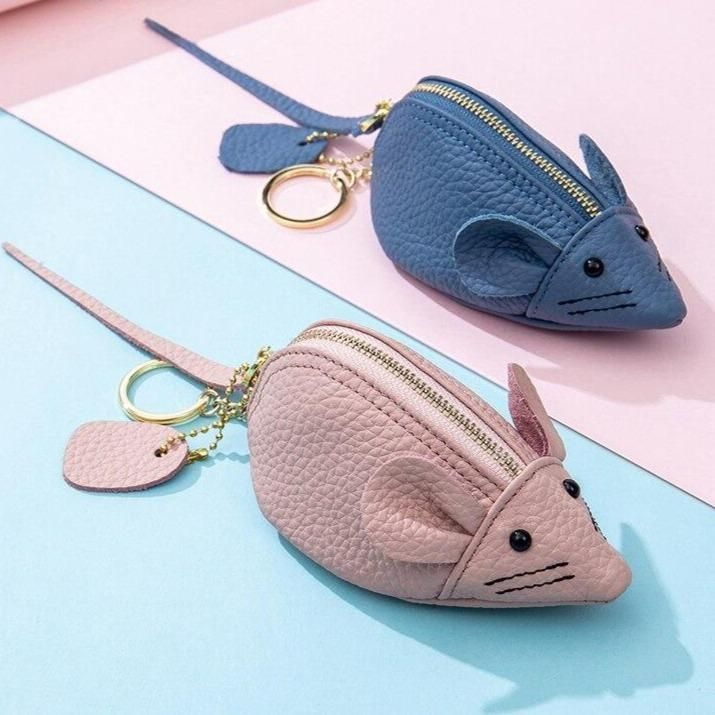cuero: (5, 16, 687, 609)
